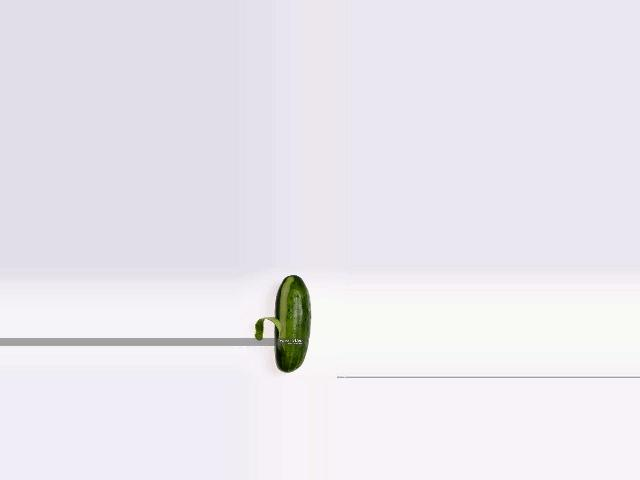cucumber: (273, 275, 310, 373)
